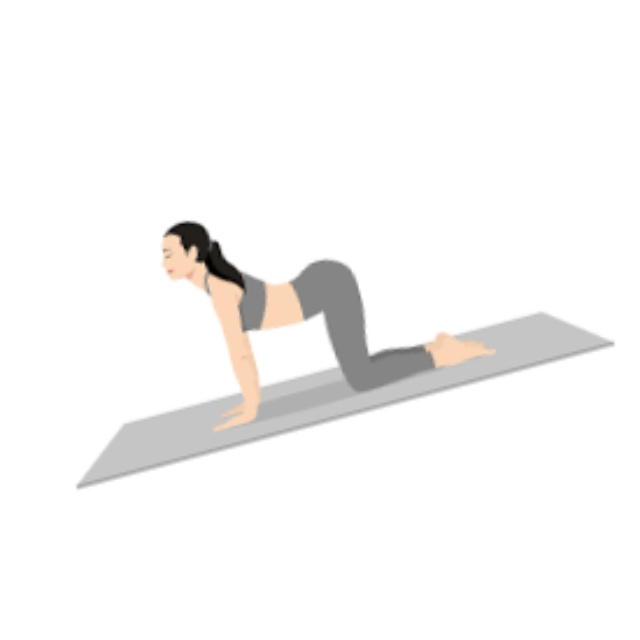Cow_Pose: (160, 219, 500, 433)
